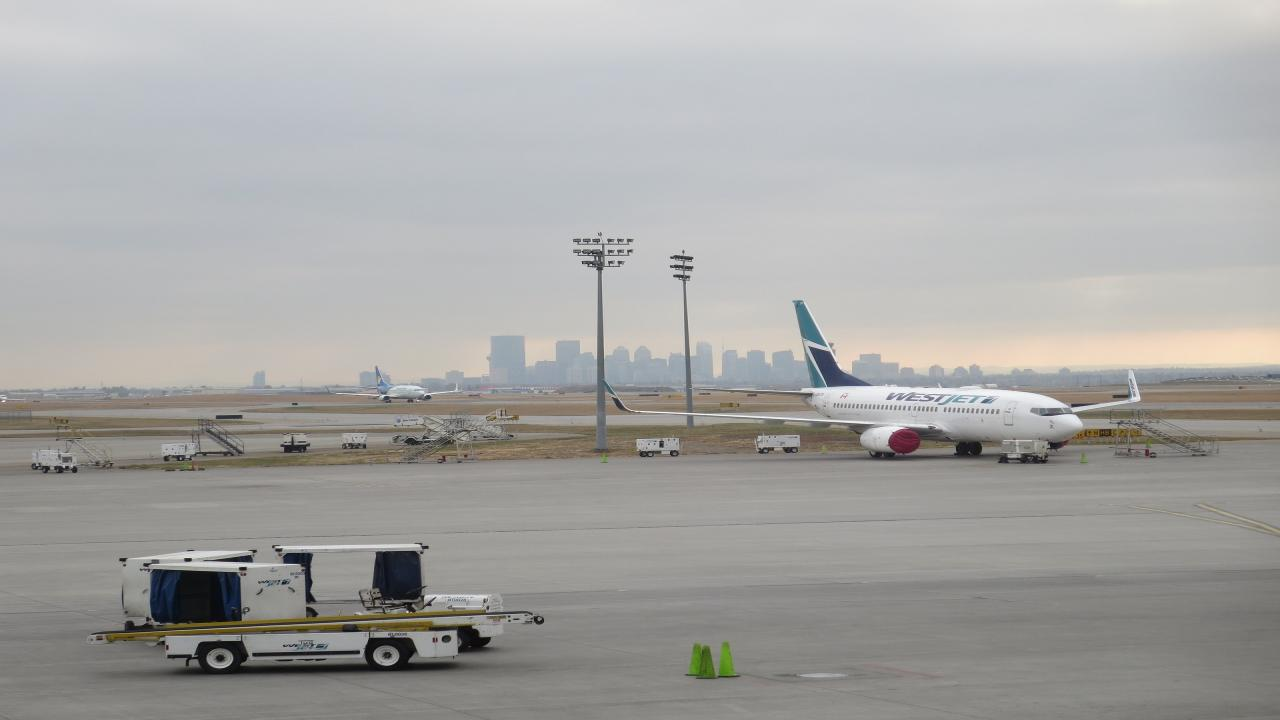Airplane: (591, 288, 1169, 472)
